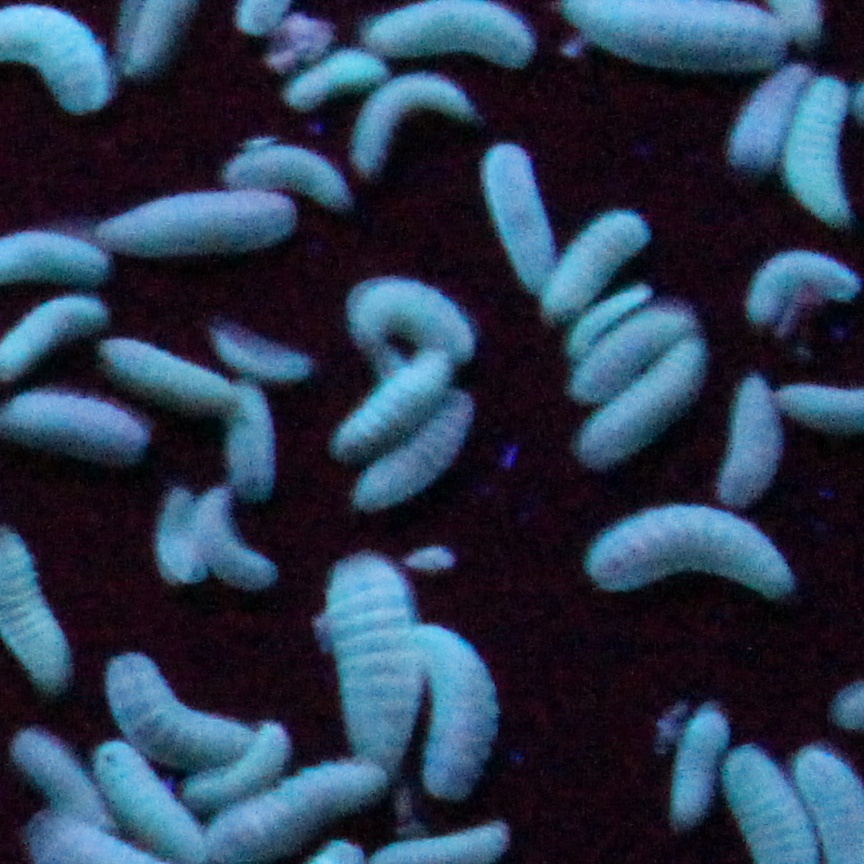larve: (232, 759, 378, 857), (592, 343, 700, 464), (336, 567, 400, 759), (585, 513, 781, 574), (104, 741, 197, 859), (106, 669, 236, 752), (357, 404, 460, 508), (427, 632, 488, 799), (337, 359, 432, 457), (104, 203, 292, 250), (378, 8, 537, 62), (2, 396, 136, 460), (362, 73, 462, 153), (357, 280, 469, 350), (106, 339, 221, 403), (586, 315, 674, 397), (199, 724, 285, 804), (495, 152, 553, 269), (558, 211, 634, 297), (799, 83, 850, 210), (21, 732, 95, 810), (723, 381, 769, 501), (236, 150, 334, 203), (295, 57, 385, 110), (736, 69, 790, 155), (150, 499, 202, 583), (209, 501, 265, 578), (755, 259, 851, 301), (229, 396, 271, 492), (576, 287, 637, 352), (683, 706, 721, 804), (223, 336, 306, 380)
